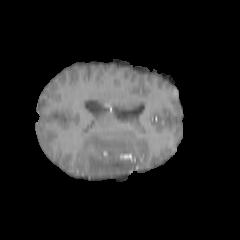glioma: (80, 130, 131, 177)
